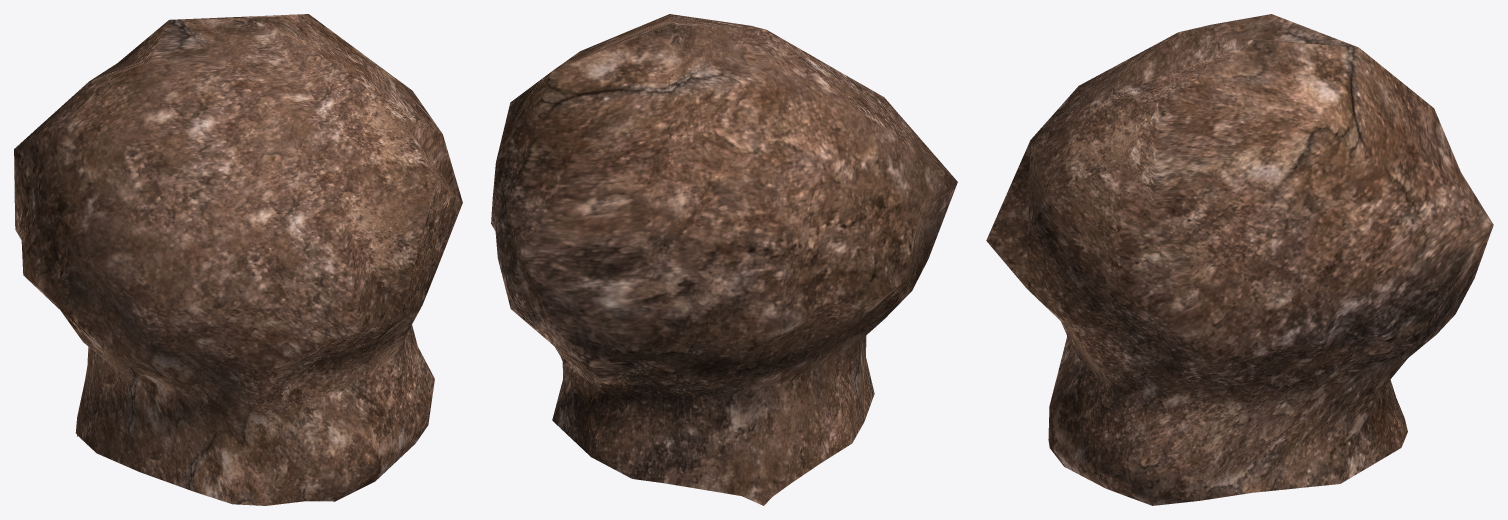
File: rock-02.FBX
3 views of the same model, side by side, from view 1: azimuth 30°, elevation 25°; view 2: azimuth 150°, elevation 25°; view 3: azimuth 270°, elevation 25° (orthographic). The views are drawn at different scales.
Visible parts, largest first — view 1: Rock2; view 2: Rock2; view 3: Rock2.
Boxes of the visible parts, left/top/right/bottom form: Rock2: left=14, top=14, right=462, bottom=505; Rock2: left=491, top=14, right=957, bottom=505; Rock2: left=986, top=14, right=1493, bottom=505.
Bounding box in the file's own units: 221 × 227 × 241.
1 material, 1 textured.
